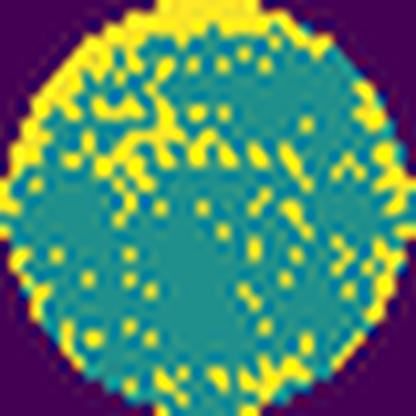Edge-Loc: (0, 0, 349, 210)
